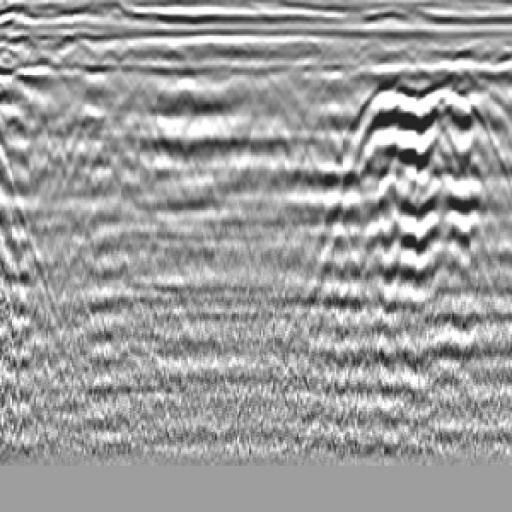non-metallic: (317, 65, 512, 347)
